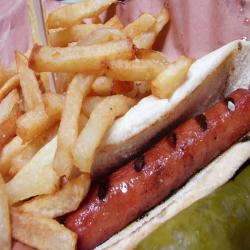fries: (5, 22, 124, 178)
hotdog: (11, 44, 249, 250)
